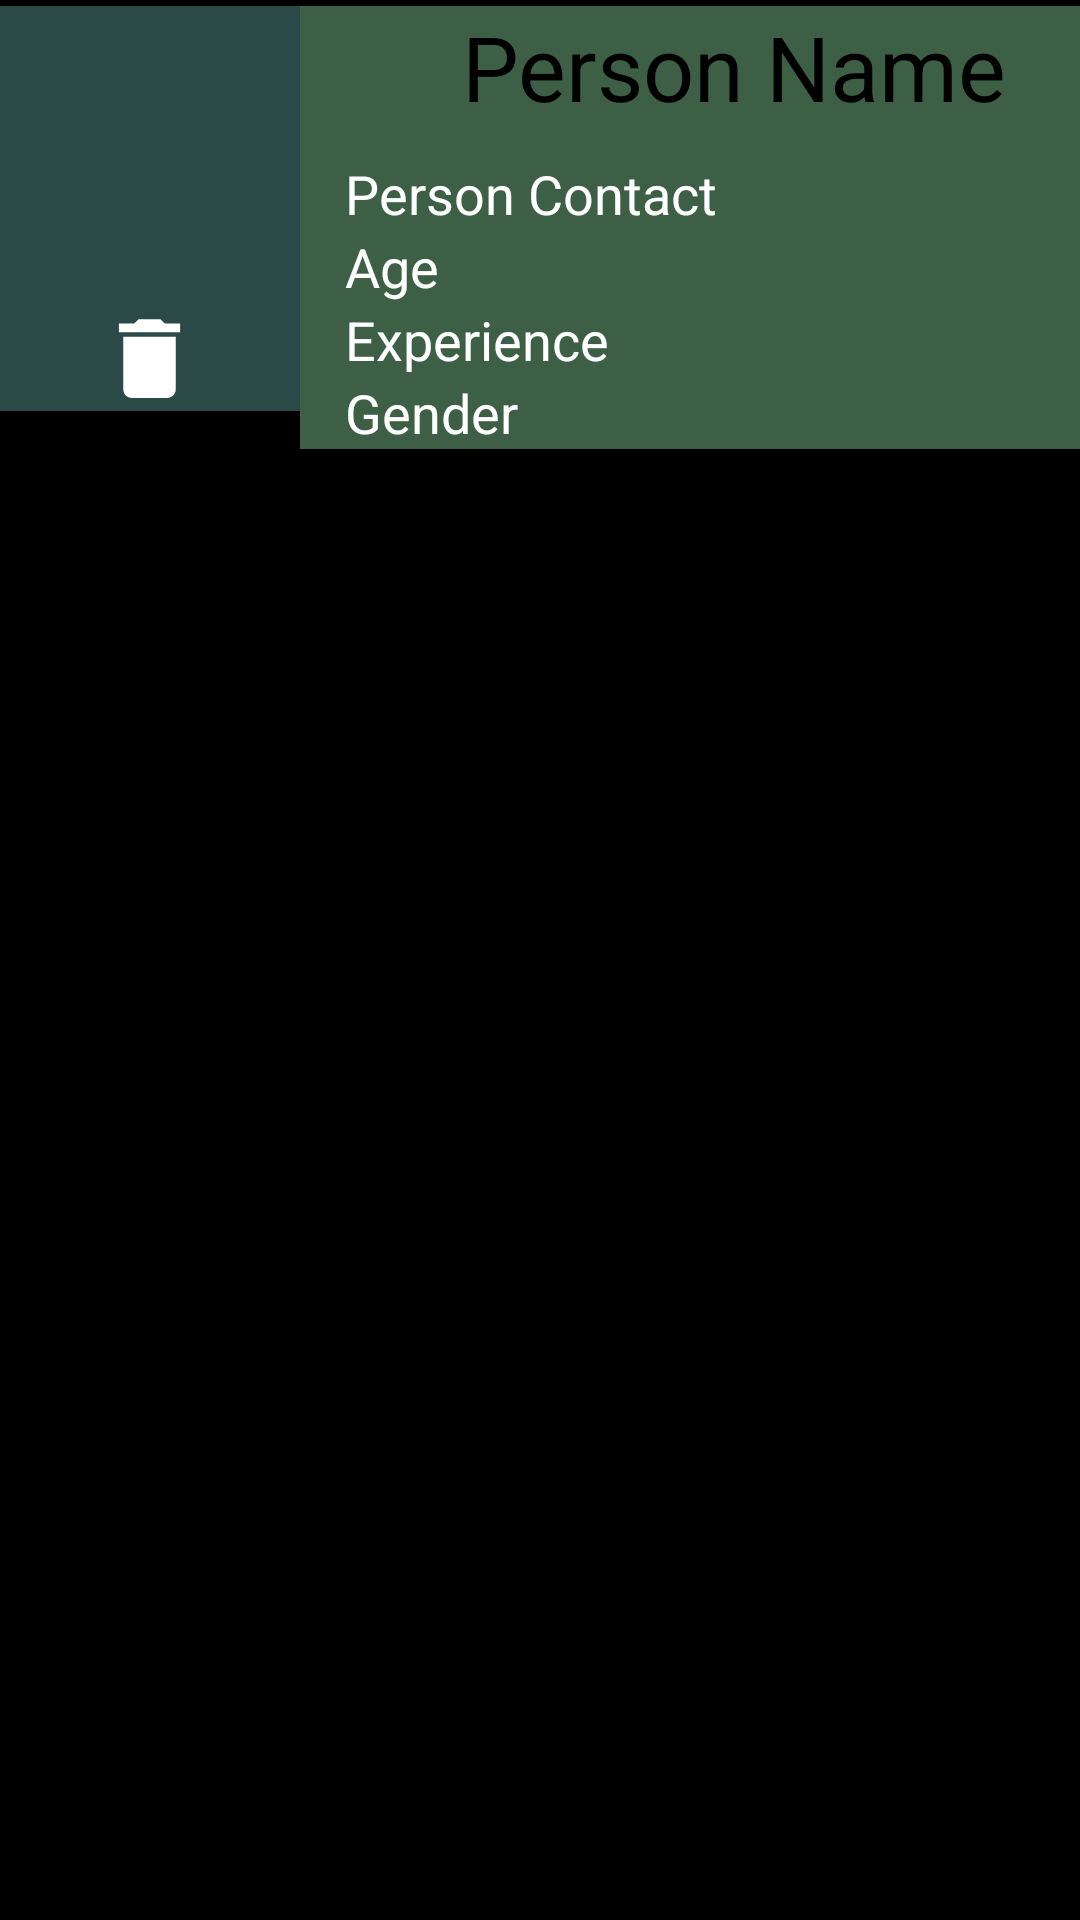

Screen size 1080 × 1920. Icon name, then its center in pixels as [x,y]:
delete: [149,358]
